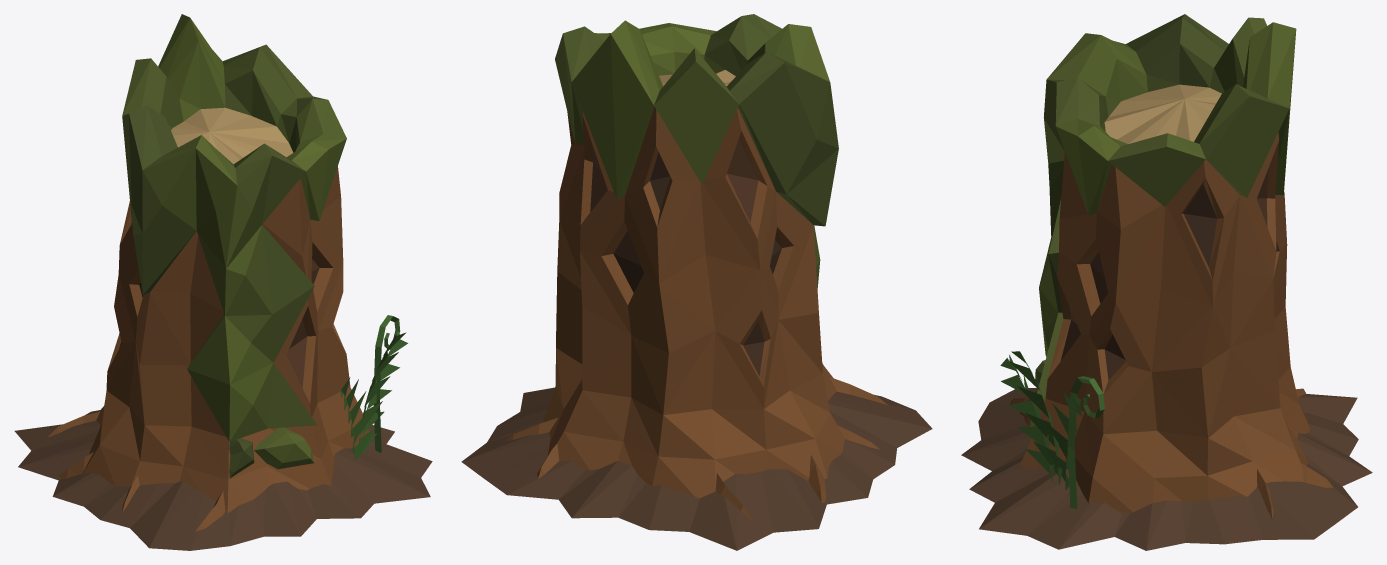
Rendered from moss-covered-stump-7253ab.glb.
The picture shows the model from 3 angles, left to right: view 1: azimuth 30°, elevation 25°; view 2: azimuth 150°, elevation 25°; view 3: azimuth 270°, elevation 25°; orthographic projection. The views are drawn at different scales.
Parts seen in each view (by area): view 1: stump, fern-sprig-fronds; view 2: stump; view 3: stump, fern-sprig-fronds.
Part boxes in pixels (<box>): stump: <box>14,14,432,550</box>; fern-sprig-fronds: <box>340,315,407,459</box>; stump: <box>461,14,932,550</box>; stump: <box>961,14,1372,550</box>; fern-sprig-fronds: <box>1000,351,1104,508</box>.
Bounding box in the file's own units: 1 × 1.2 × 1.
